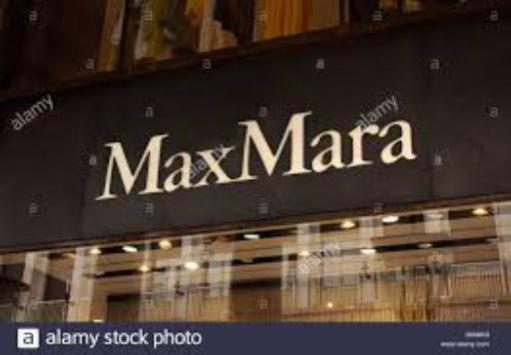MAX-MARA: (91, 108, 416, 203)
